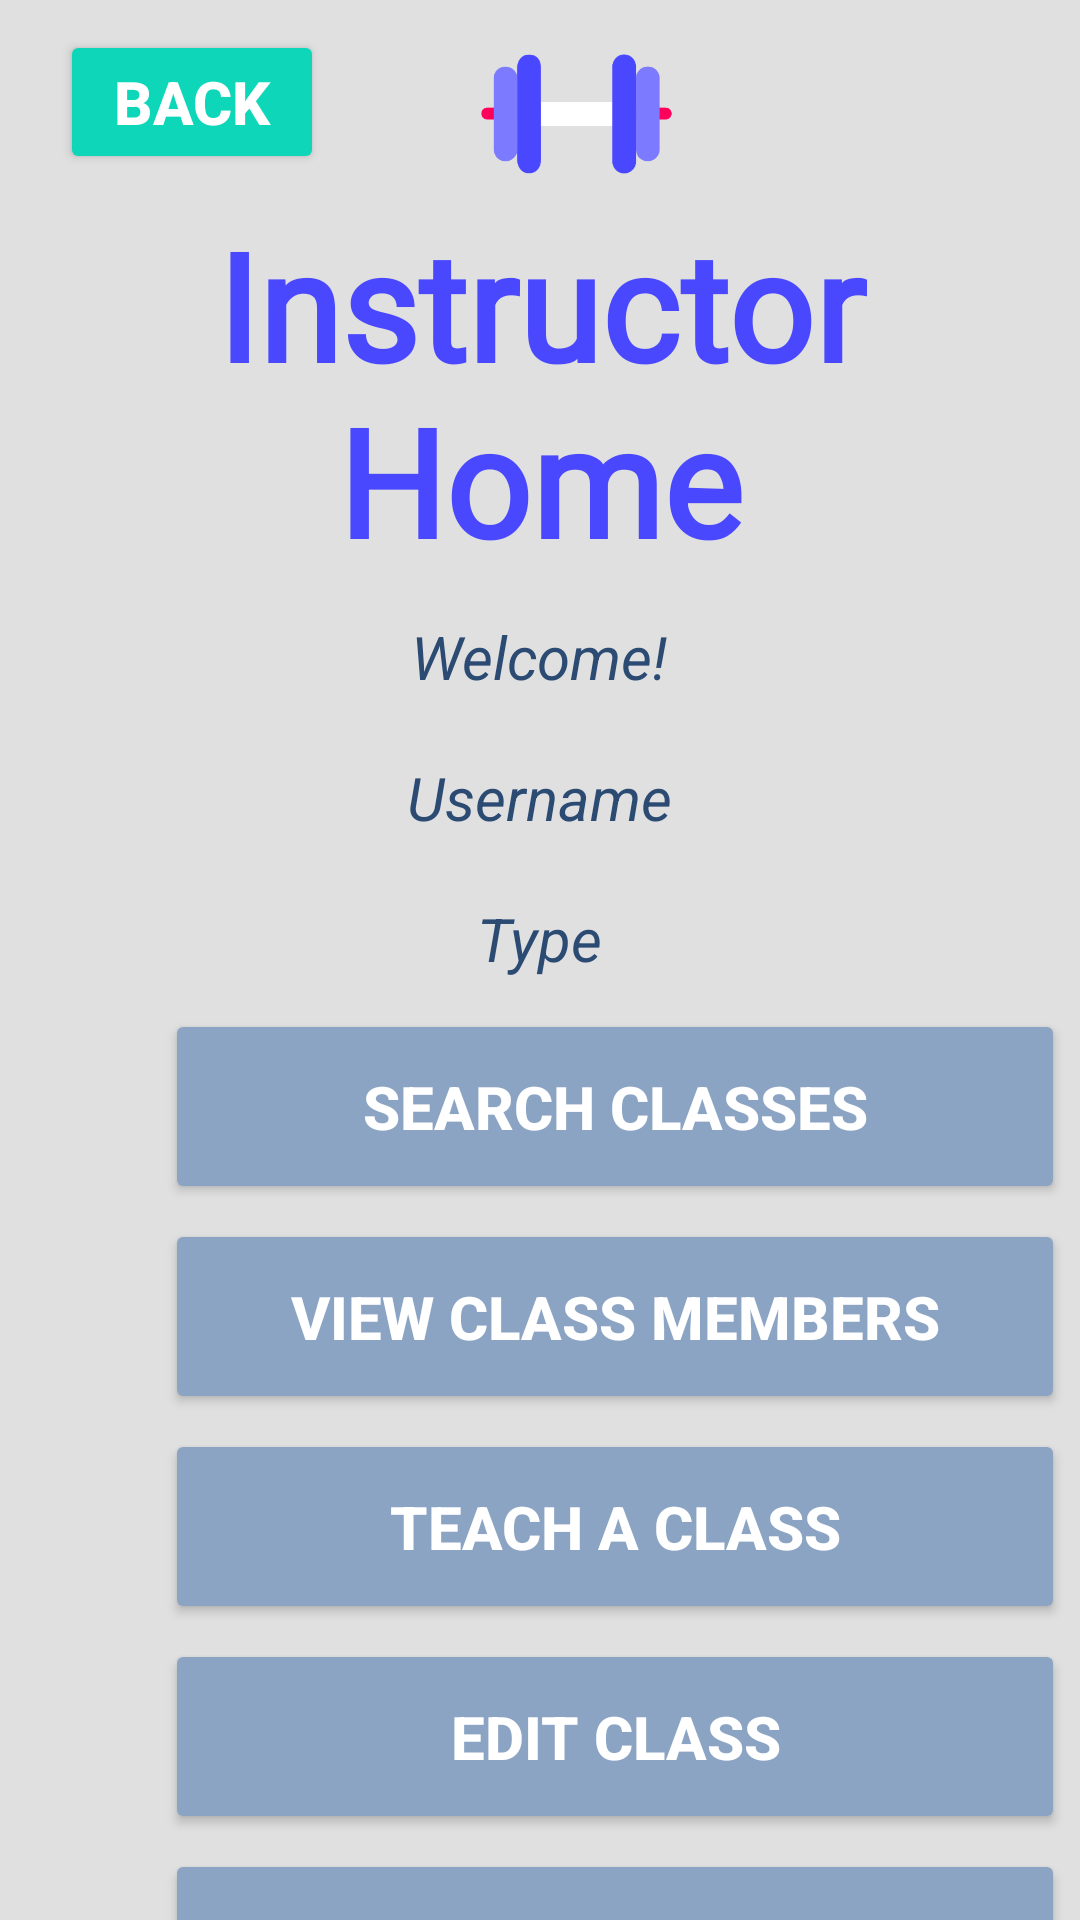

Icons on this 1080px×1920px Android screen, each with its box as (x1, y1, x2, y2):
dumbell purp: (481, 54, 672, 174)
